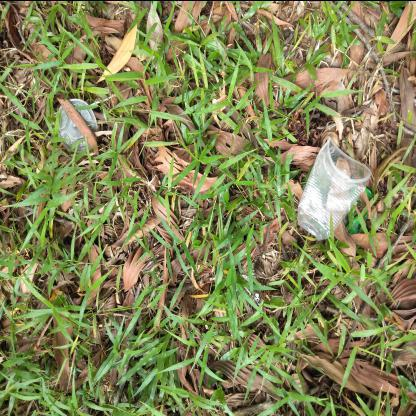plastik: (298, 136, 373, 242), (58, 99, 99, 153)
